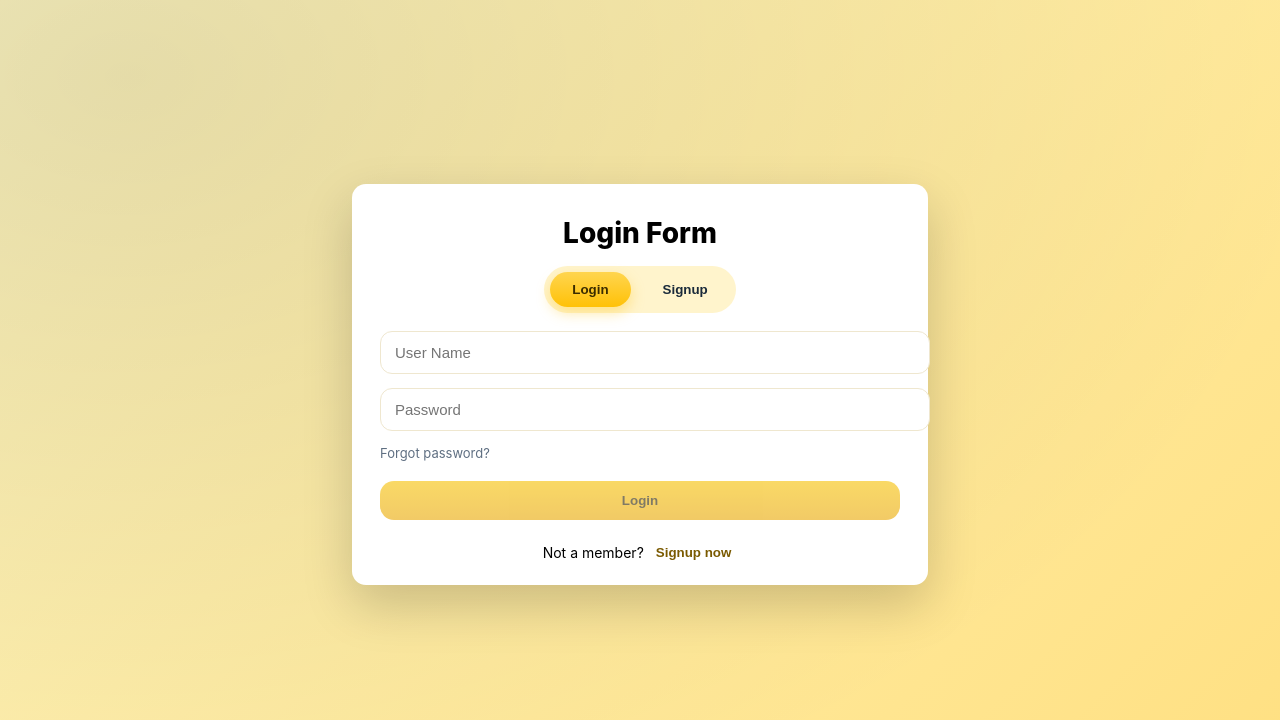
Test: LoginSignup Component › Tab Navigation Tests › should switch back to login tab when clicked
The width and height of the screenshot is (1280, 720).
Note: Switch to signup first
Click the tab "Signup" at (685, 289), box x1=640 y1=272 x2=730 y2=306
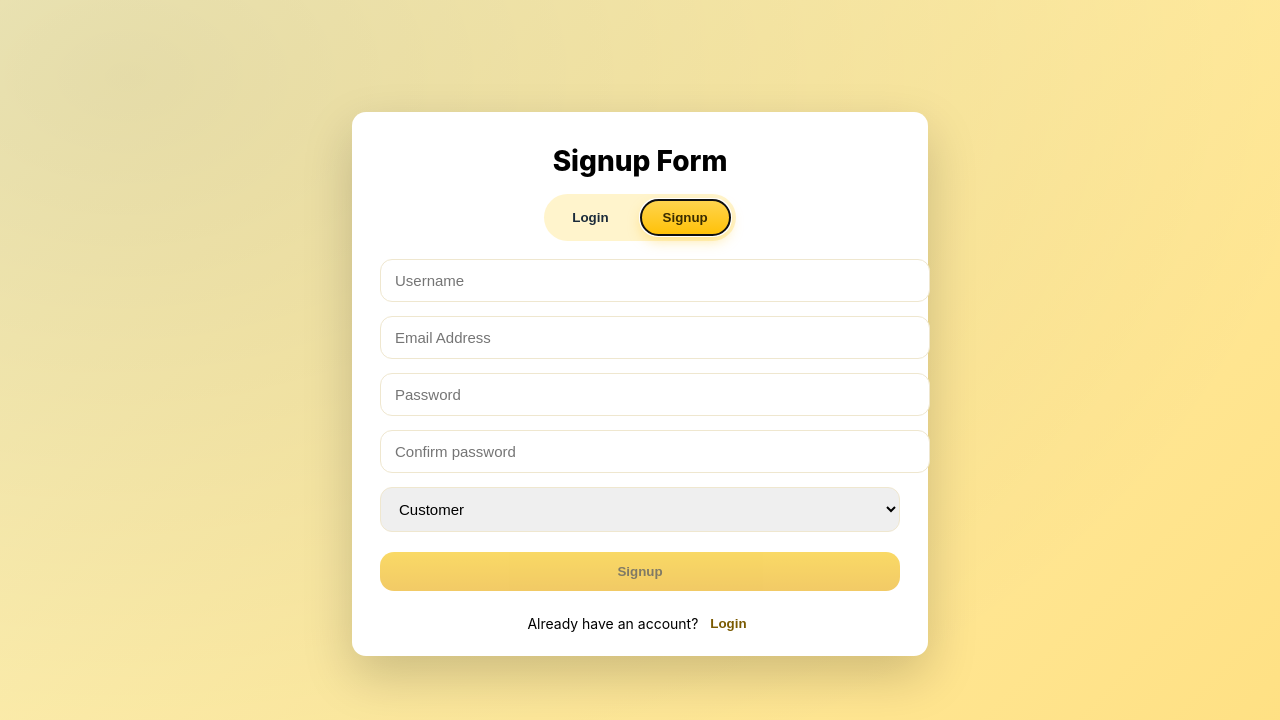
Expected: the heading "Signup Form" is shown, x1=553 y1=144 x2=727 y2=178
Note: Switch back to login
Click the tab "Login" at (590, 218), box x1=550 y1=200 x2=631 y2=235
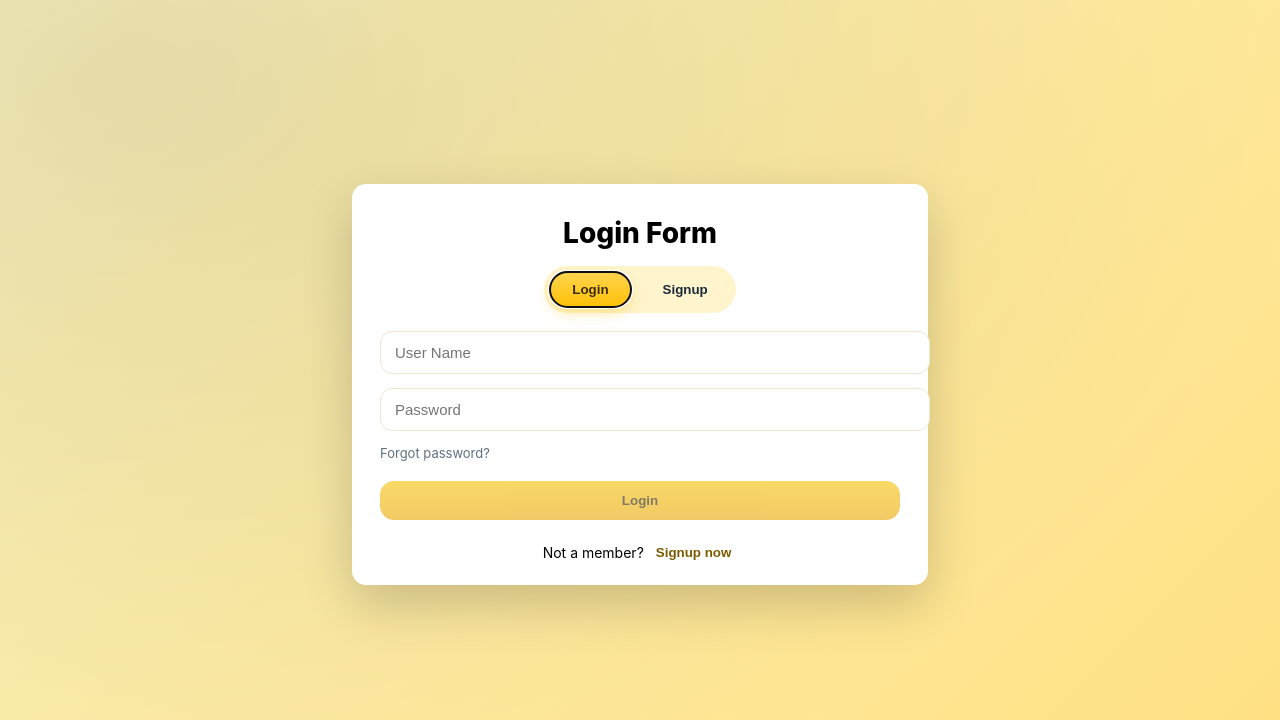
Expected: the heading "Login Form" is shown, x1=563 y1=216 x2=717 y2=250
